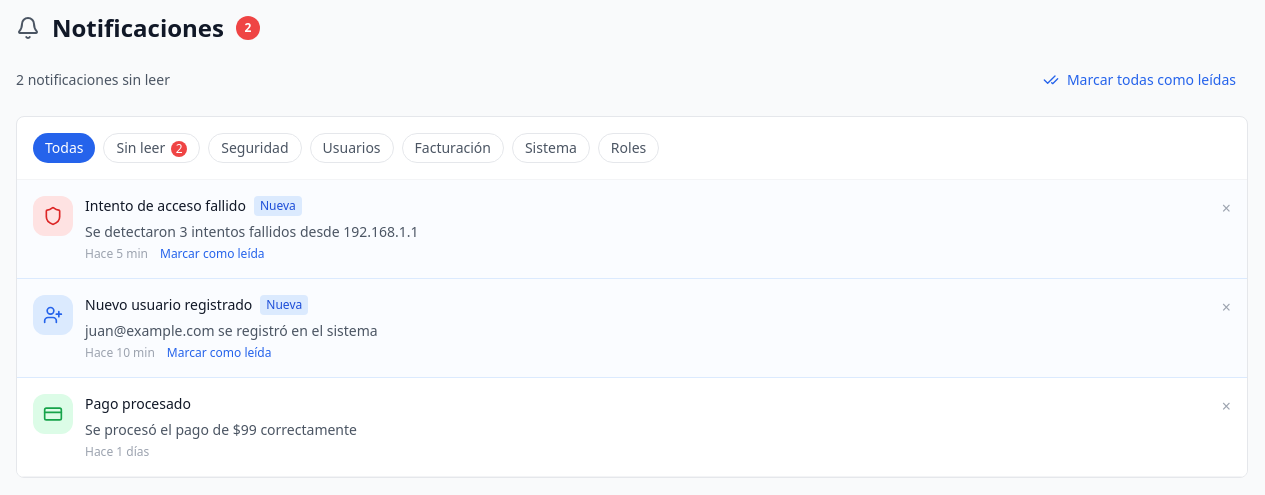
Test case: NotificationsPage › filtro "Sin leer" muestra solo notificaciones no leídas
The image size is (1265, 495).
// Click en el filtro "Sin leer"
Click the button "Sin leer 2" at (152, 148), box [104,133,200,163]
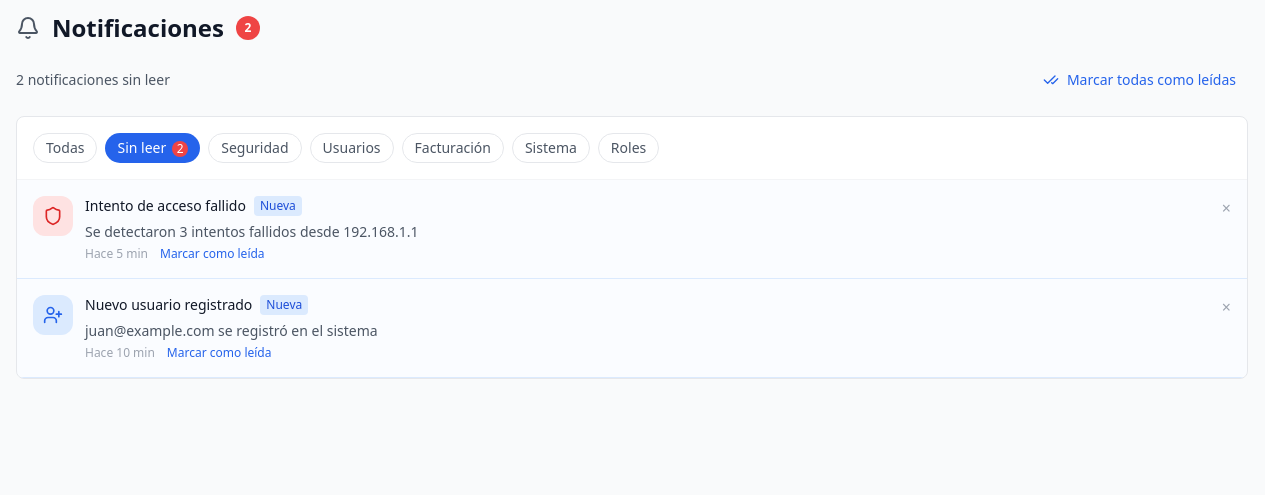
Expected: the text "Intento de acceso fallido" is shown, [85,196,246,216]
Expected: the text "Pago procesado" is gone
